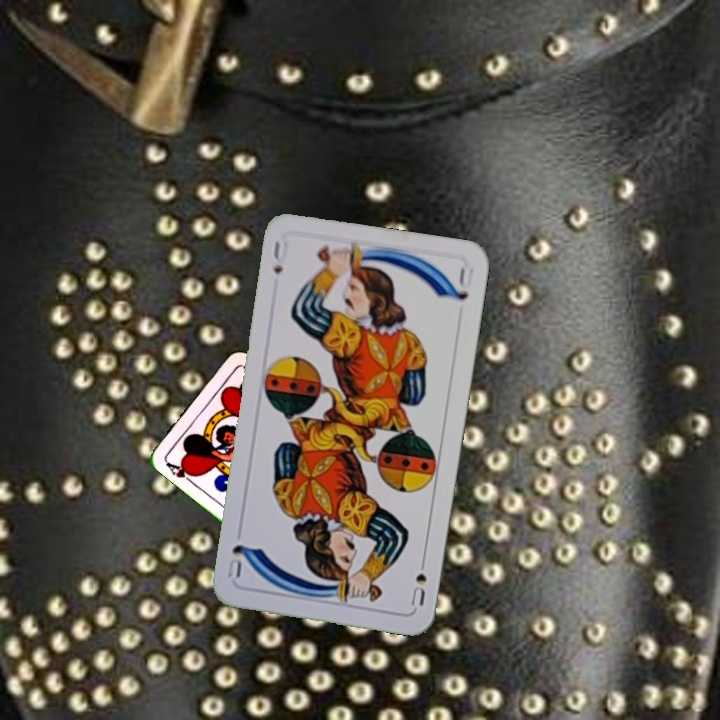HA: (162, 457, 199, 487)
SU: (407, 551, 430, 608), (269, 236, 291, 277)
